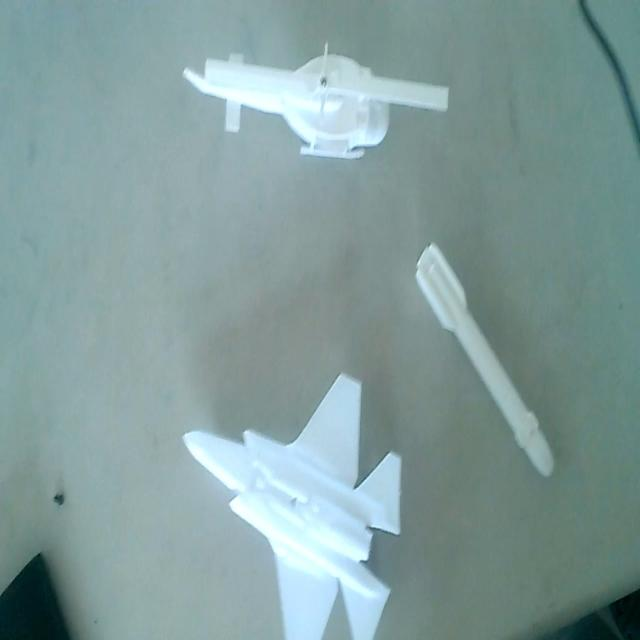Helicopter: (181, 35, 451, 170)
Jet: (177, 372, 405, 640)
Rocket: (411, 232, 558, 484)
